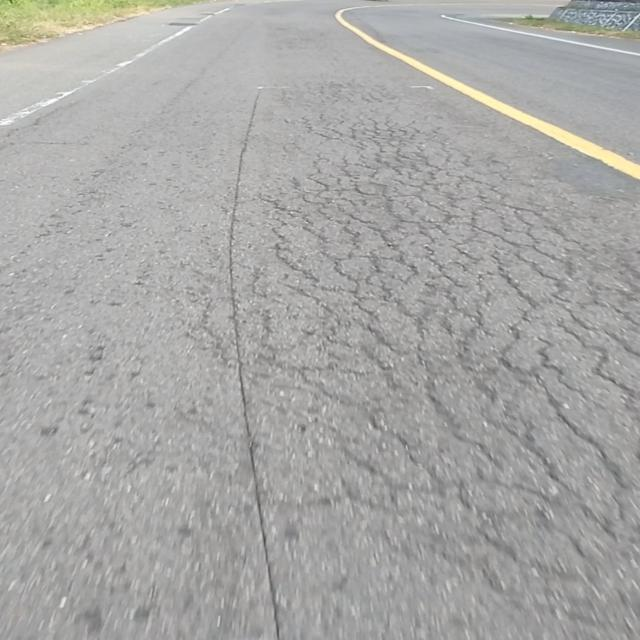Retak Buaya: (253, 97, 640, 640)
